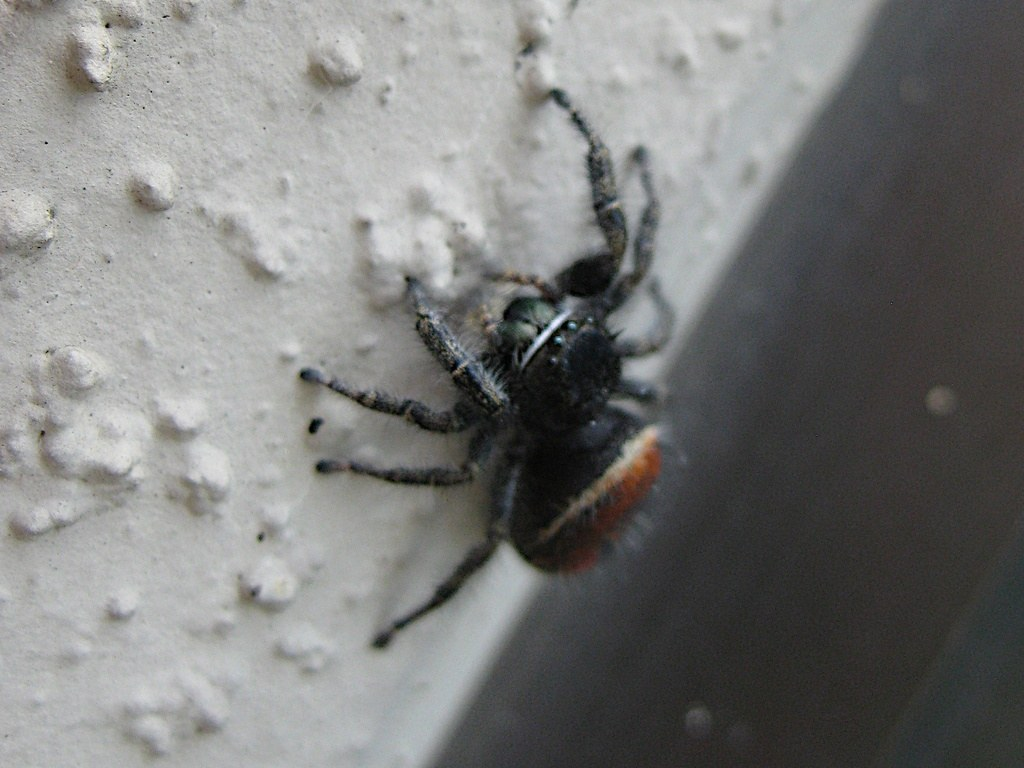insect: (299, 80, 696, 650), (301, 84, 696, 650)
